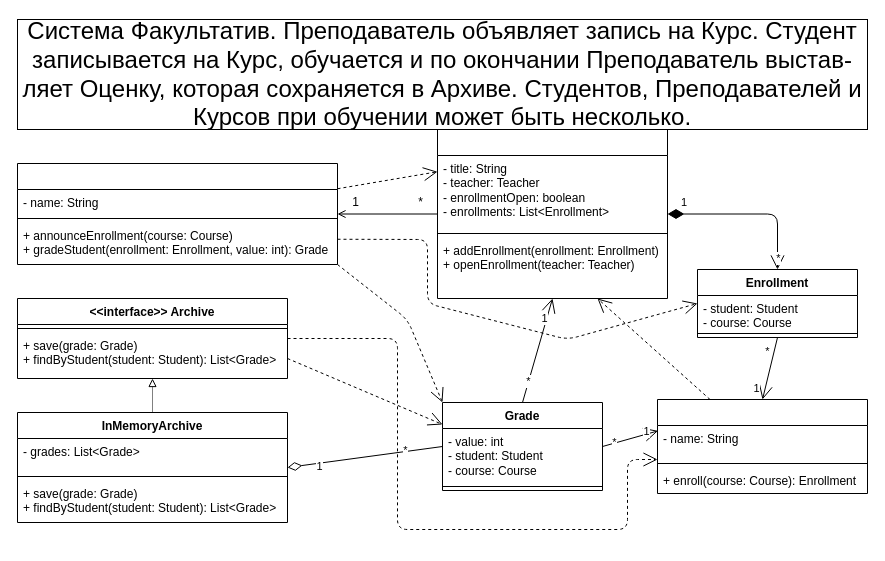
This 885x561 diagram has some shape labels left out. Each missing label, with the box of its shape:
Course: (436, 128, 668, 298)
Student: (656, 398, 868, 494)
Teacher: (16, 162, 338, 264)
